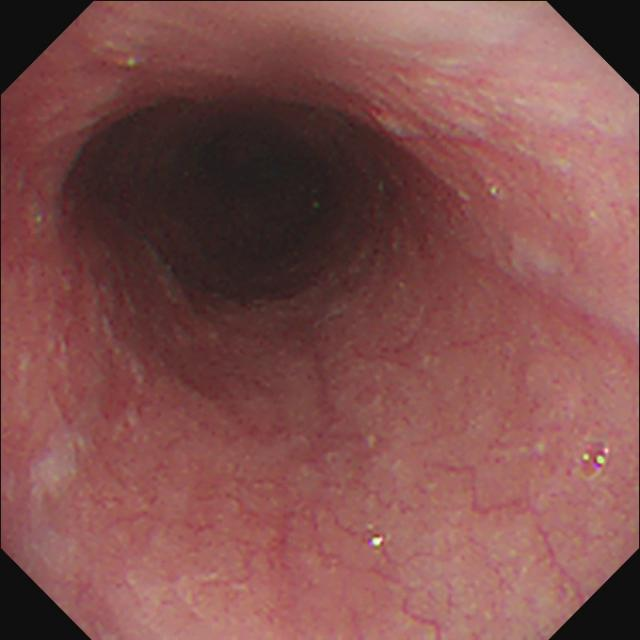E: (53, 81, 385, 317)
T: (576, 439, 610, 483)
